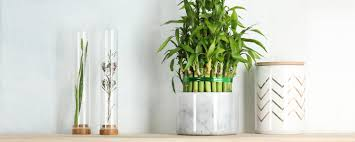bamboo: (162, 1, 248, 91)
